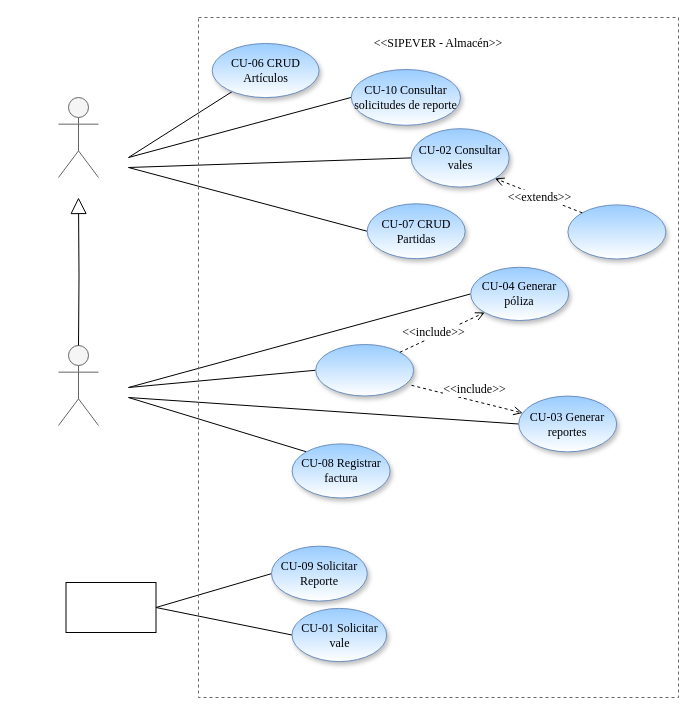
This 696x715 diagram has some shape labels left out. The centre of each missing label's shape, as x and y in pixels:
<<Actor>> Oficina de departamento: (x=110, y=607)
Asistente de almacén: (x=78, y=137)
CU-05 Cerrar mes: (x=365, y=371)
CU-11 Enviar solicitud de compra: (x=617, y=233)
Encargado de almacén: (x=78, y=385)
